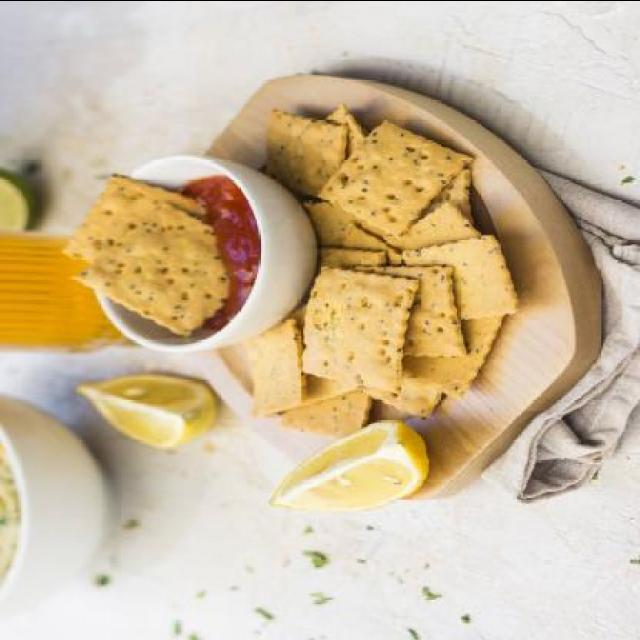Cracker packaged: (76, 206, 230, 332), (318, 118, 467, 234), (296, 266, 422, 388)
